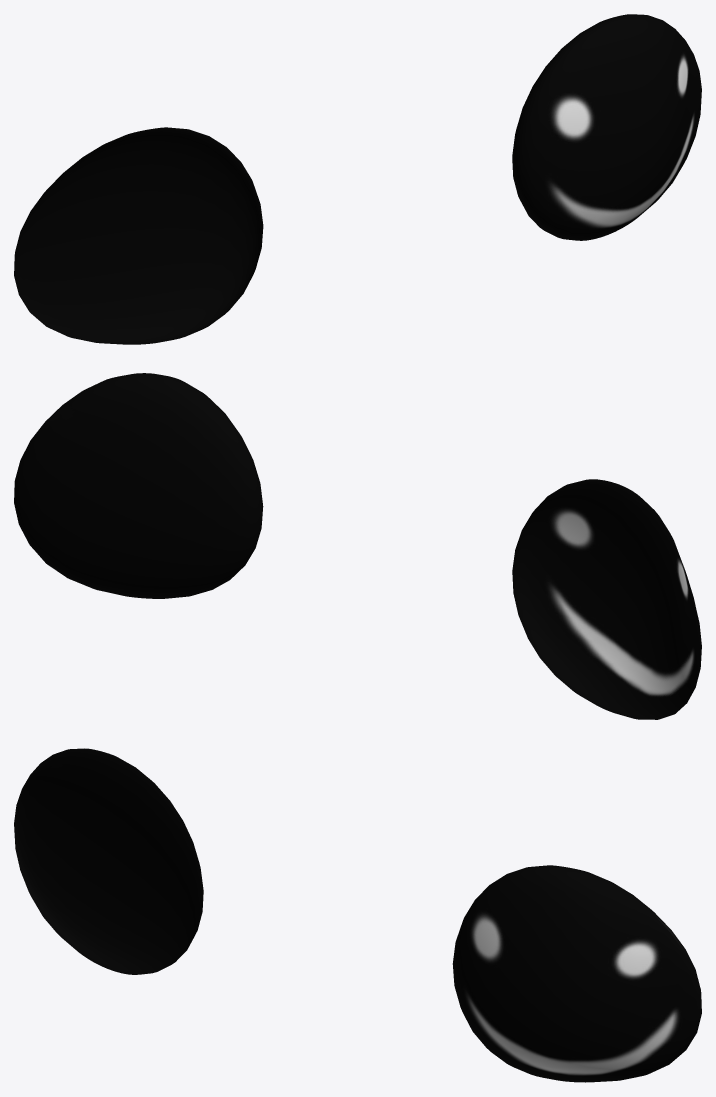
Rendered from Happy.glb.
3 renders of one model, top to bottom at view 1: azimuth 30°, elevation 25°; view 2: azimuth 150°, elevation 25°; view 3: azimuth 330°, elevation 25°, orthographic.
Visible parts, largest first — view 1: Sphere.001; view 2: Sphere.001; view 3: Sphere.001.
Part boxes in pixels (bbox=[...]): Sphere.001: bbox=[14, 14, 701, 344]; Sphere.001: bbox=[14, 373, 701, 719]; Sphere.001: bbox=[14, 748, 701, 1082].
Size of the model in its own units: 0.3462 by 0.1053 by 0.0451.
1 material, 1 textured.
